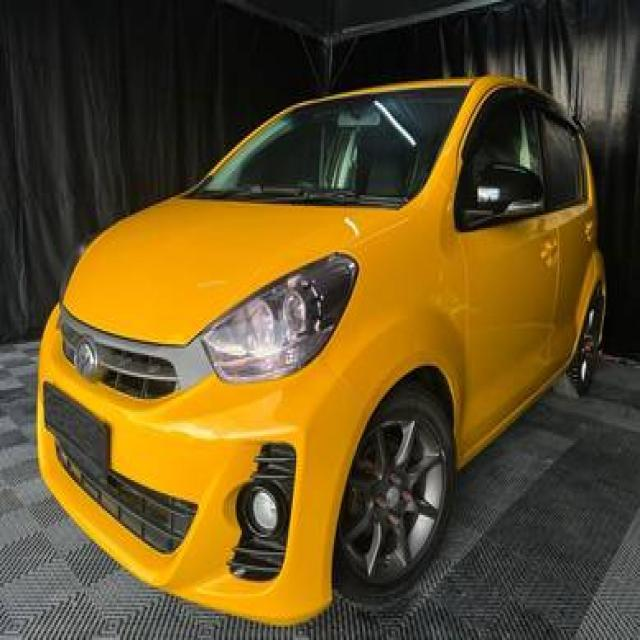PeroduaMyvi: (33, 70, 607, 627)
